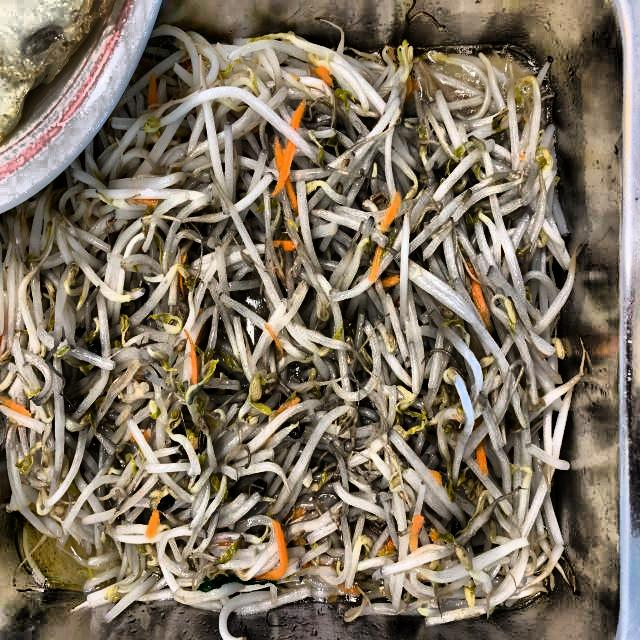Food: (32, 68, 558, 610)
